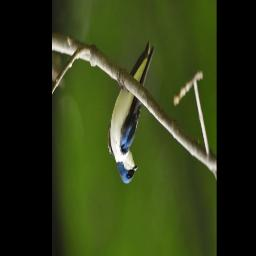Swallow: (107, 40, 155, 185)
